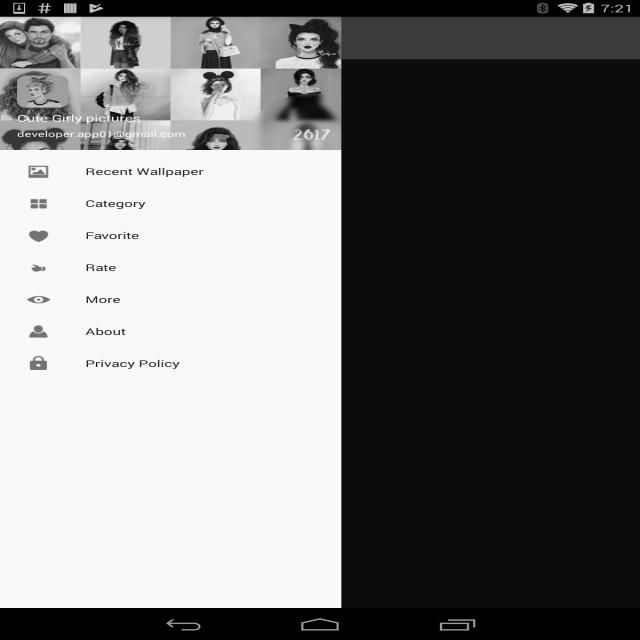CheckedTextView: (26, 156, 316, 188), (26, 188, 316, 220), (26, 220, 316, 252), (26, 252, 316, 284), (26, 284, 316, 316), (26, 316, 316, 348), (26, 348, 316, 380)
ImageButton: (9, 19, 68, 57)
ImageView: (17, 76, 68, 108)
TextView: (17, 124, 324, 140), (17, 112, 324, 124), (72, 29, 248, 47)
